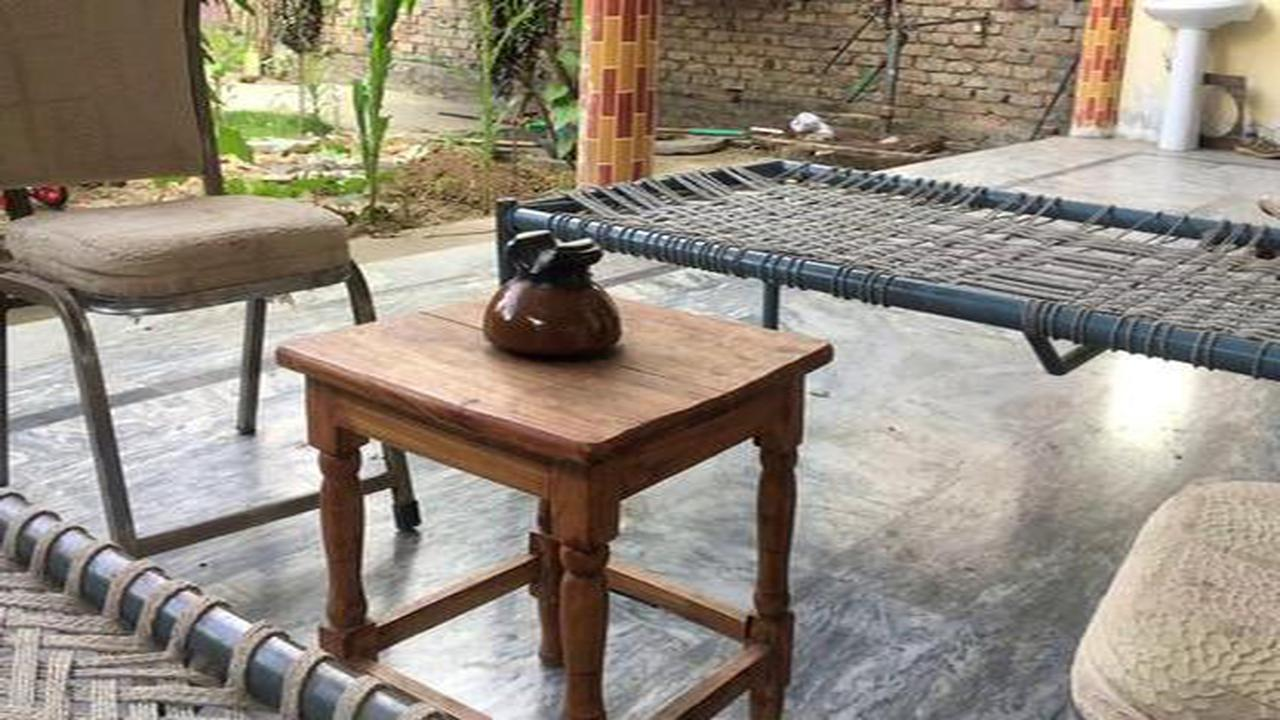insulator_pin: (480, 213, 628, 376)
